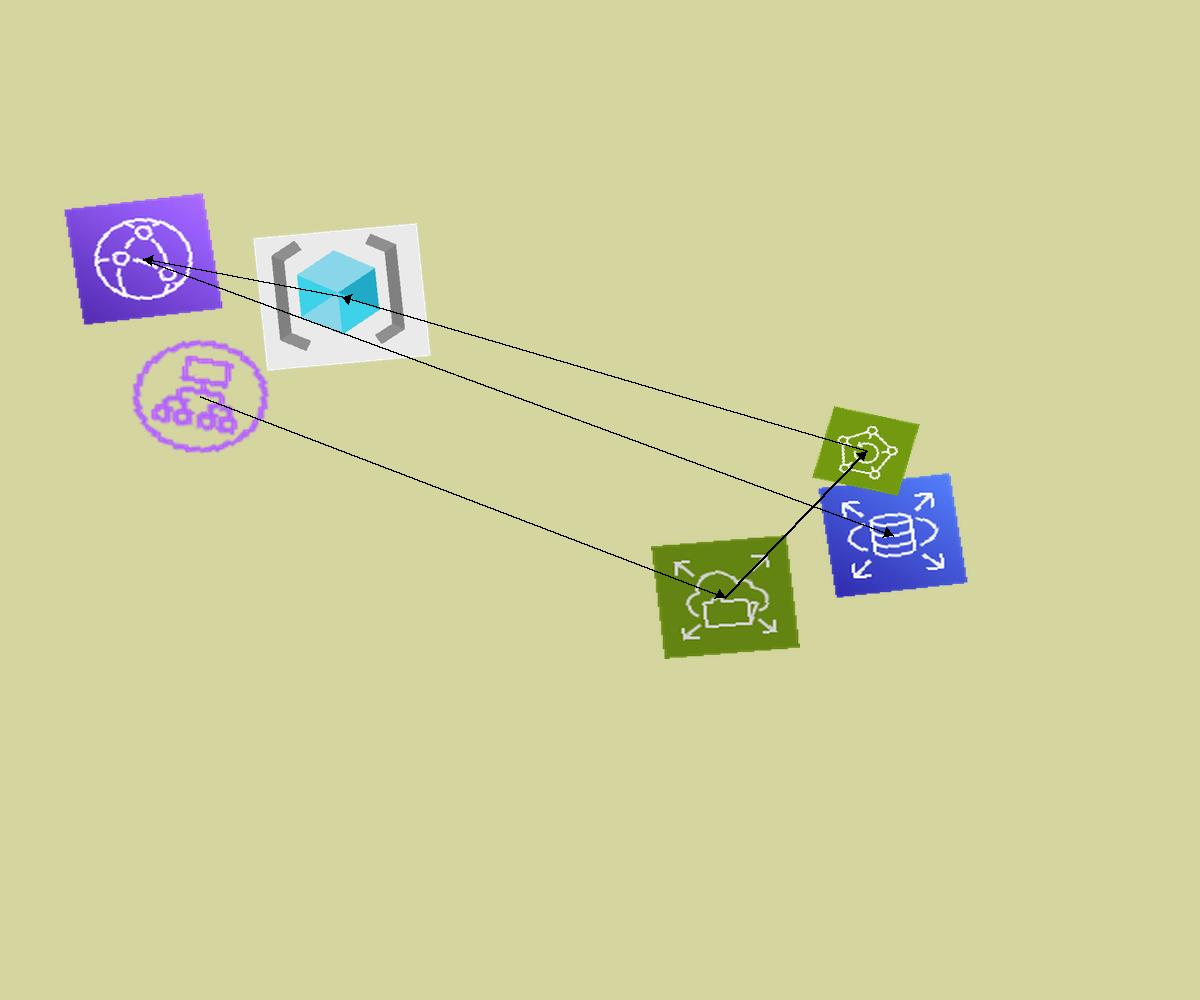AWS-Backup: (812, 406, 920, 496)
AWS-CloudFront: (63, 192, 224, 326)
AWS-EFS: (651, 535, 800, 659)
AWS-RDS: (817, 472, 969, 599)
AWS-Res_Elastic-Load-Balancing_Application-Load-Balancer: (112, 323, 289, 470)
Azure_resource_group: (253, 223, 431, 371)
